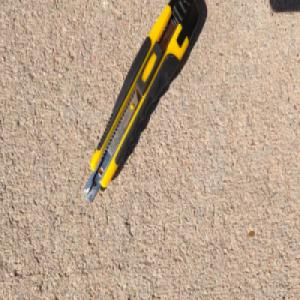Cutter: (83, 0, 199, 205)
